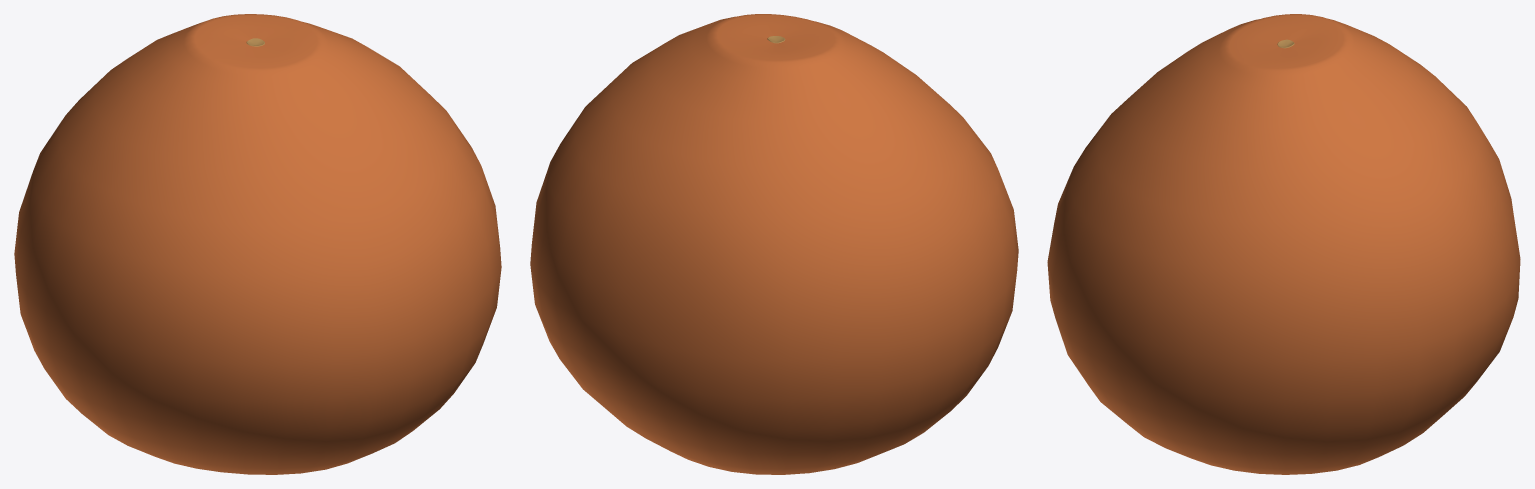
Rendered from Grapefruit.fbx.
3 views of the same model, side by side, from view 1: azimuth 30°, elevation 25°; view 2: azimuth 150°, elevation 25°; view 3: azimuth 270°, elevation 25° (orthographic).
Parts seen in each view (by area): view 1: Grapefruit; view 2: Grapefruit; view 3: Grapefruit.
Part boxes in pixels (box(x1,y1,x2,y2)): Grapefruit: box(14, 14, 501, 474); Grapefruit: box(530, 14, 1018, 474); Grapefruit: box(1047, 14, 1520, 474).
Size of the model in its own units: 10 by 9.25 by 9.81.
